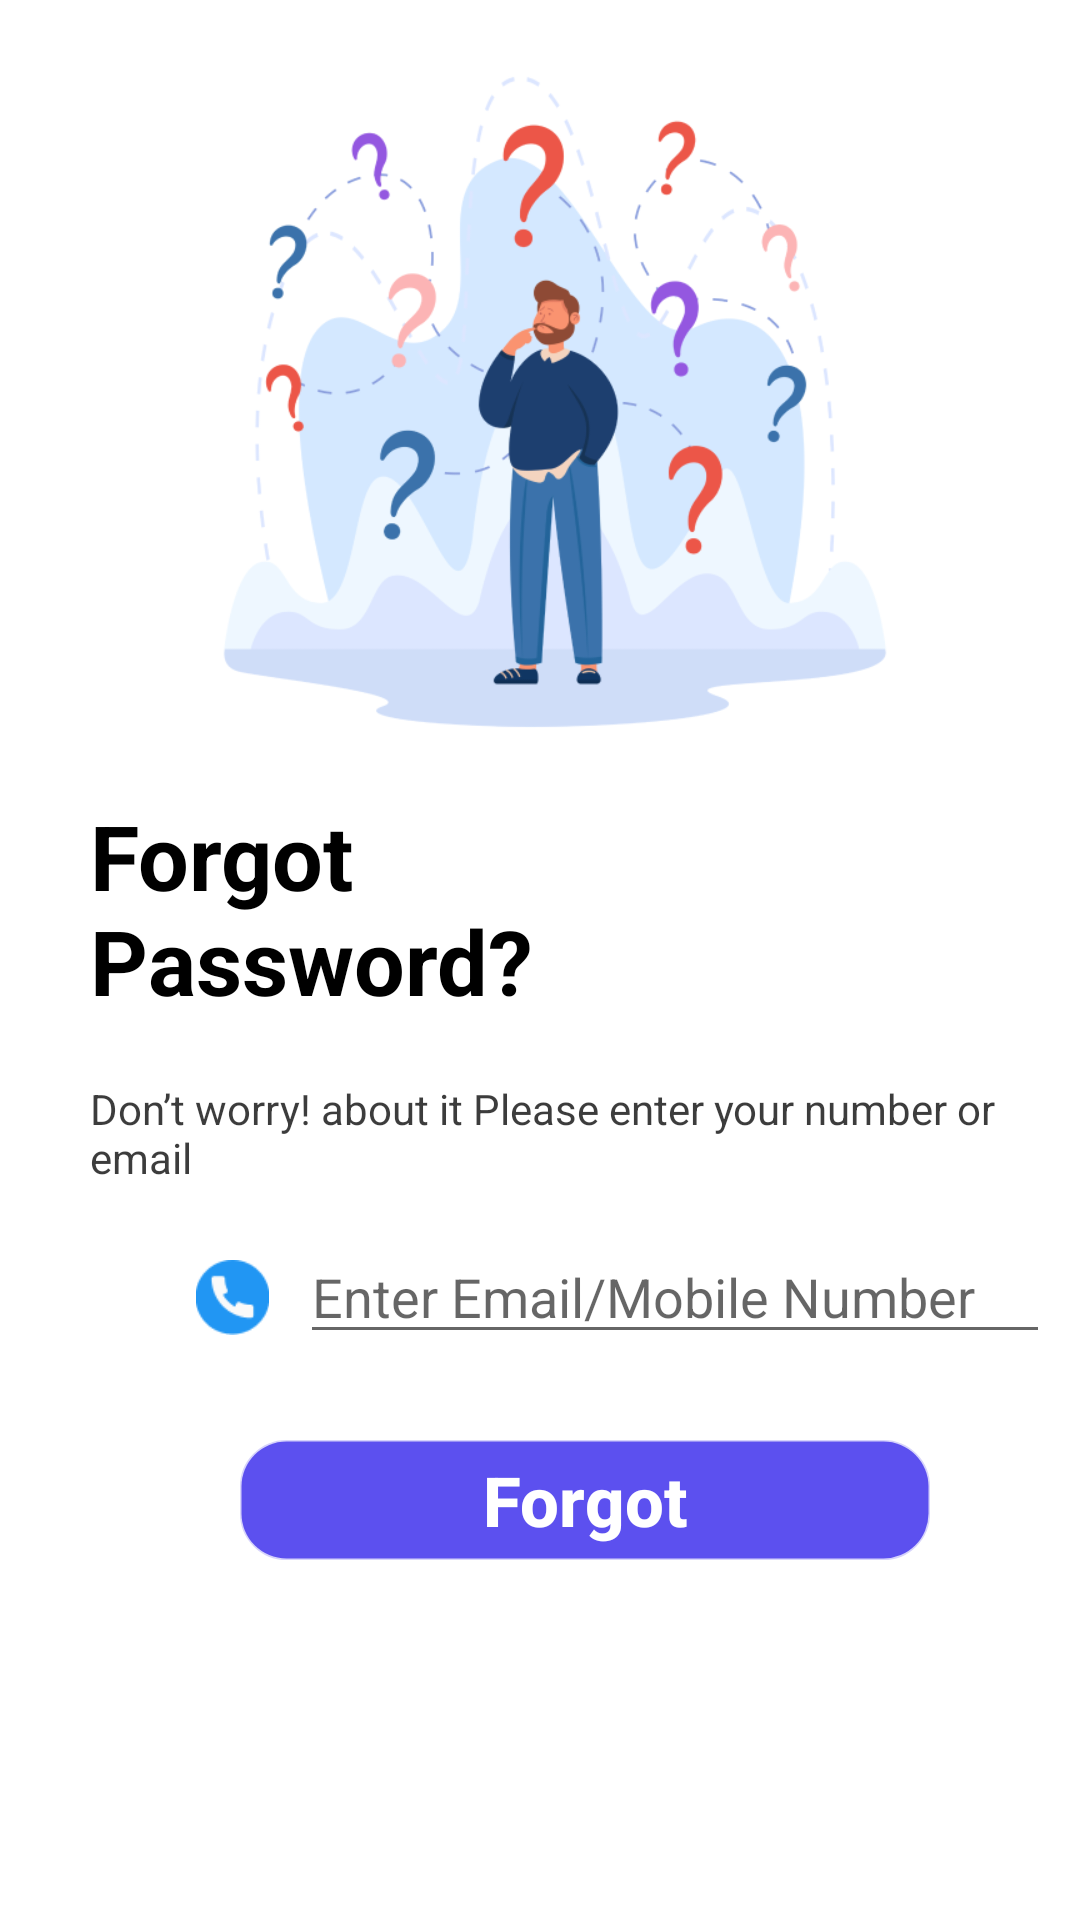

Locate icon controls on the screen. Image size 1080×1920, boxes as BBox(x1, y1, x2, y2).
call: BBox(196, 1260, 269, 1335)
